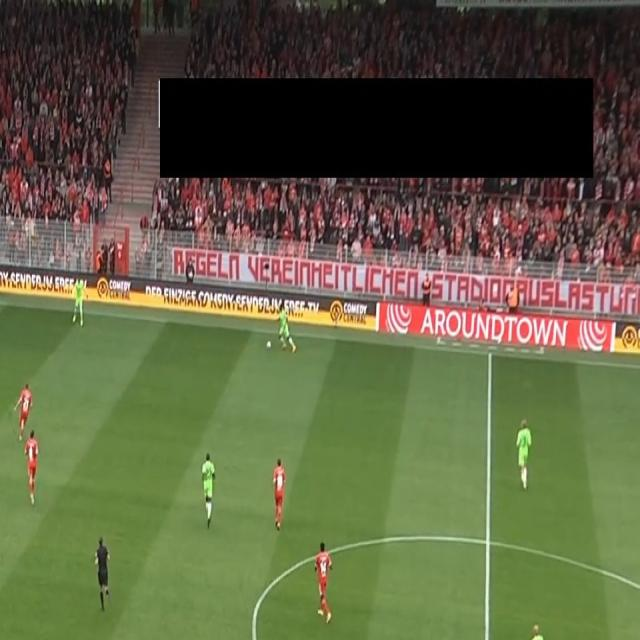ball: (266, 339, 273, 352)
